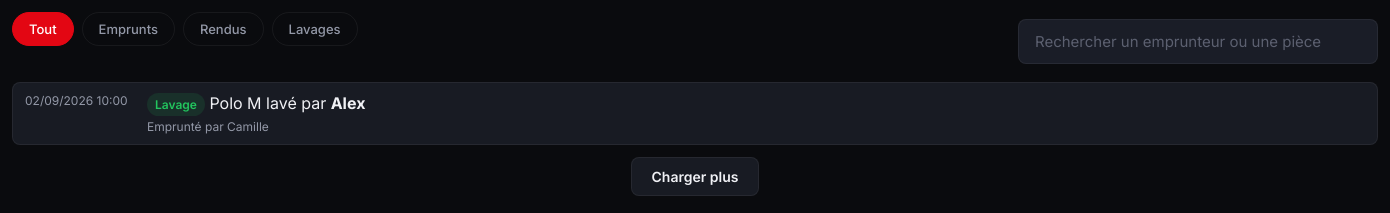
it: UniformHistory › « Charger plus » en vol pendant un changement de filtre : sa réponse est abandonnée
This screenshot has width=1390, height=213.
Expected: the text "Alex" is shown, x1=331 y1=93 x2=366 y2=113
Click the button "Charger plus": point(695, 176) x1=630 y1=157 x2=760 y2=196
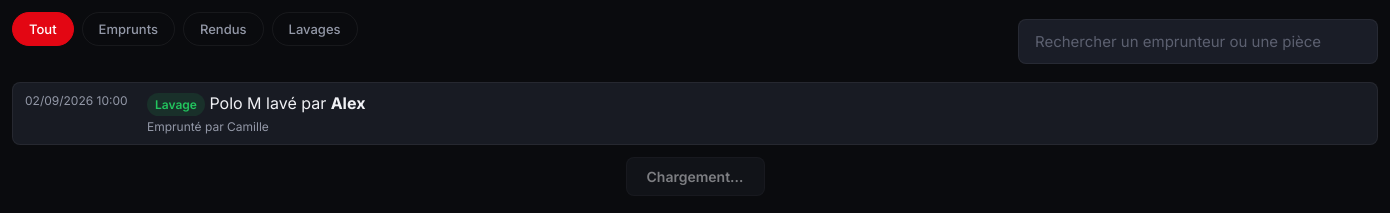
Click the tab "Emprunts": point(128, 29) x1=82 y1=12 x2=175 y2=46
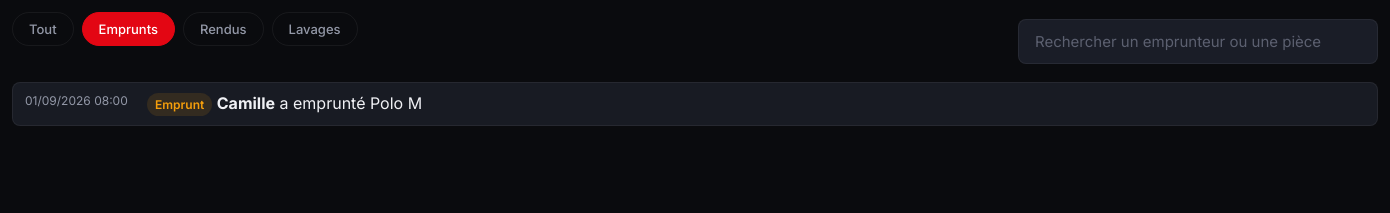
Expected: the number of list items is 1, x1=12 y1=82 x2=1378 y2=126
Expected: the text "Emprunt Camille a emprunté Polo M" is shown, x1=147 y1=93 x2=422 y2=116
